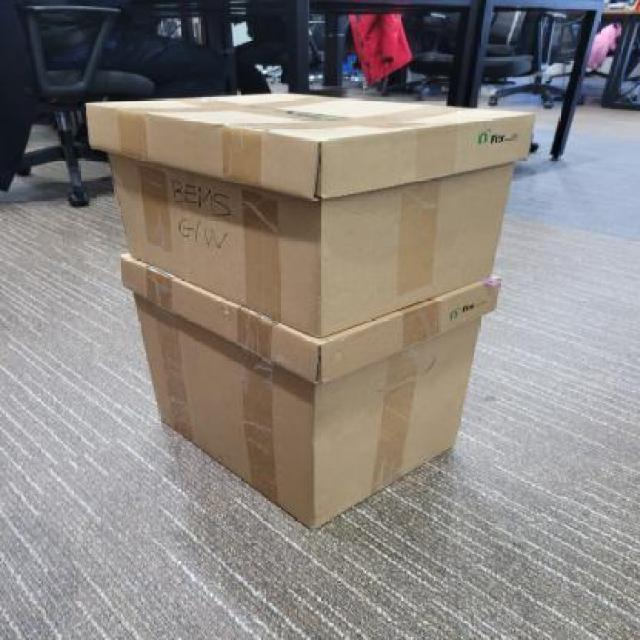box: (84, 90, 538, 337), (120, 244, 500, 528)
